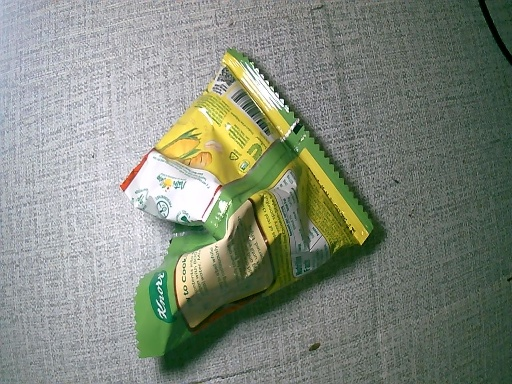plastic: (116, 46, 378, 362)
